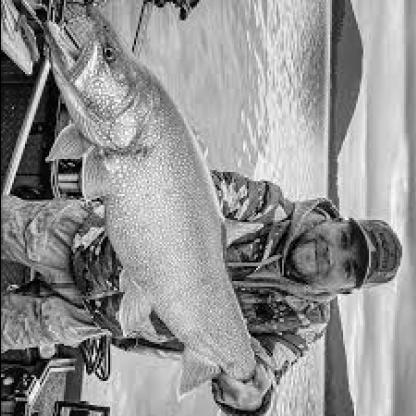fish: (44, 1, 276, 412)
